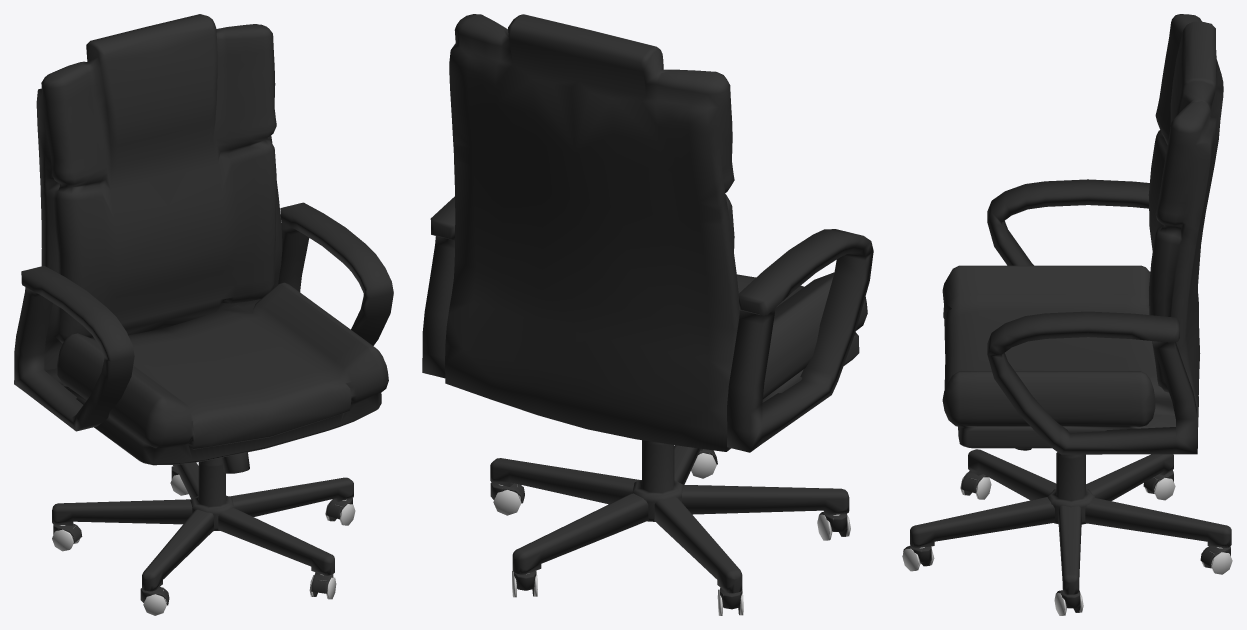
Rendered from Chair.glb.
3 views of the same model, side by side, from view 1: azimuth 30°, elevation 25°; view 2: azimuth 150°, elevation 25°; view 3: azimuth 270°, elevation 25° (orthographic). The views are drawn at different scales.
Parts seen in each view (by area): view 1: Leg_LP4_lambert1_0; view 2: Leg_LP4_lambert1_0; view 3: Leg_LP4_lambert1_0.
Part boxes in pixels (x1=…): Leg_LP4_lambert1_0: x1=14, y1=14, x2=393, y2=615; Leg_LP4_lambert1_0: x1=422, y1=14, x2=873, y2=615; Leg_LP4_lambert1_0: x1=902, y1=14, x2=1232, y2=615.
Bounding box in the file's own units: 0.7163 × 1.16 × 0.6947.
Materials: 1 (1 with a texture image).
